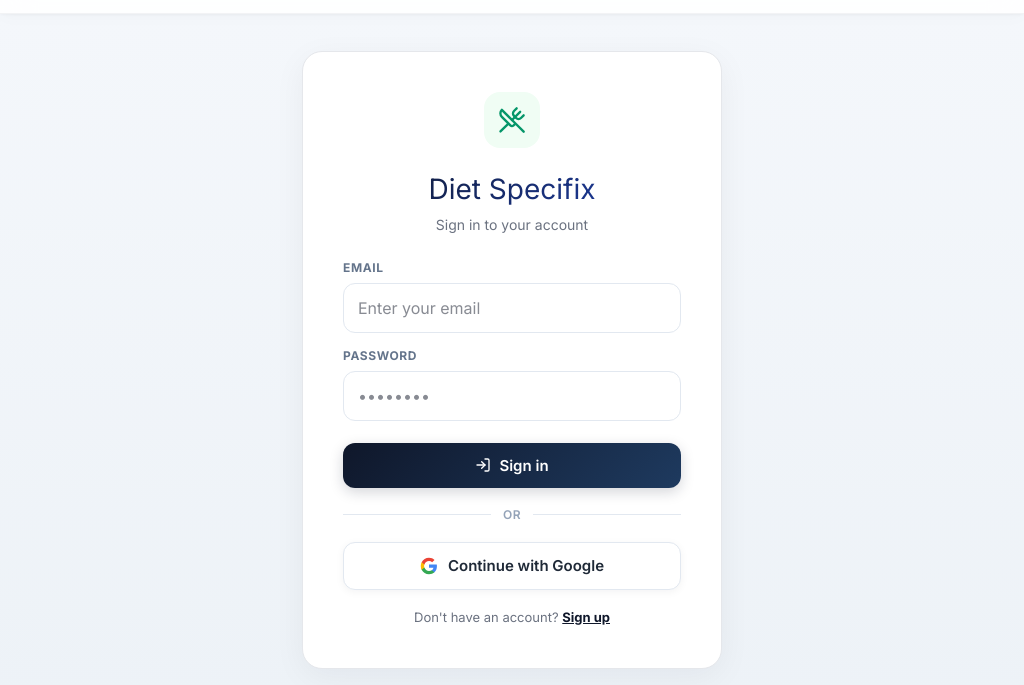
Test case: AuthPage › shows error message when sign up fails
This screenshot has width=1024, height=685.
Click the button "Sign up".
click(586, 617)  # box [562,608,610,626]
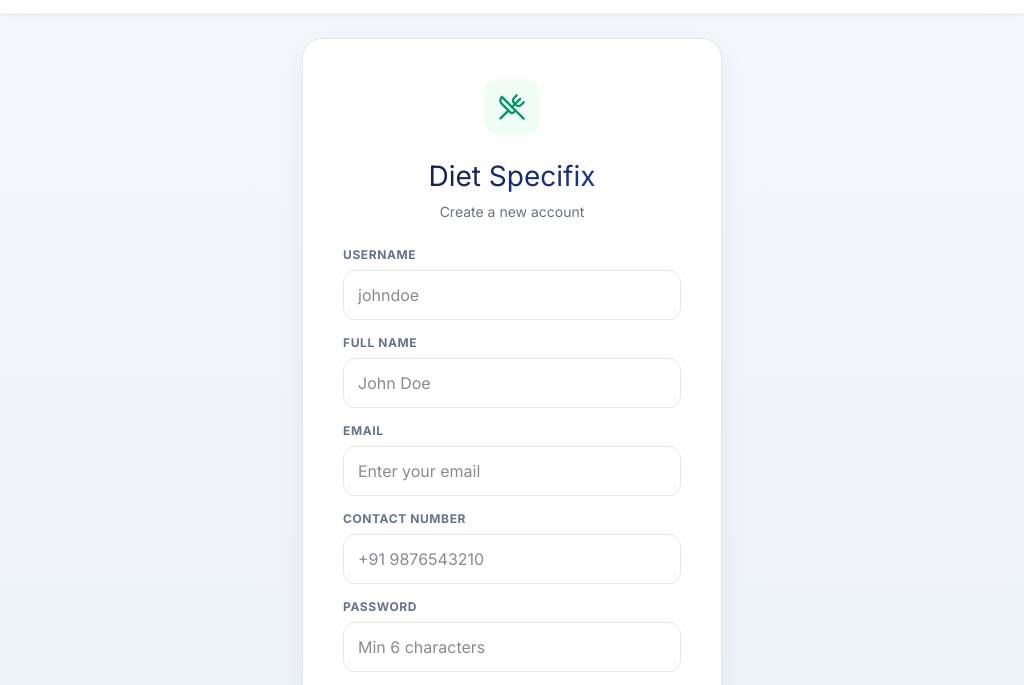
Type "existing" into the field labelled "Username".
click(512, 295); type("existing")  # box [343,270,681,320]
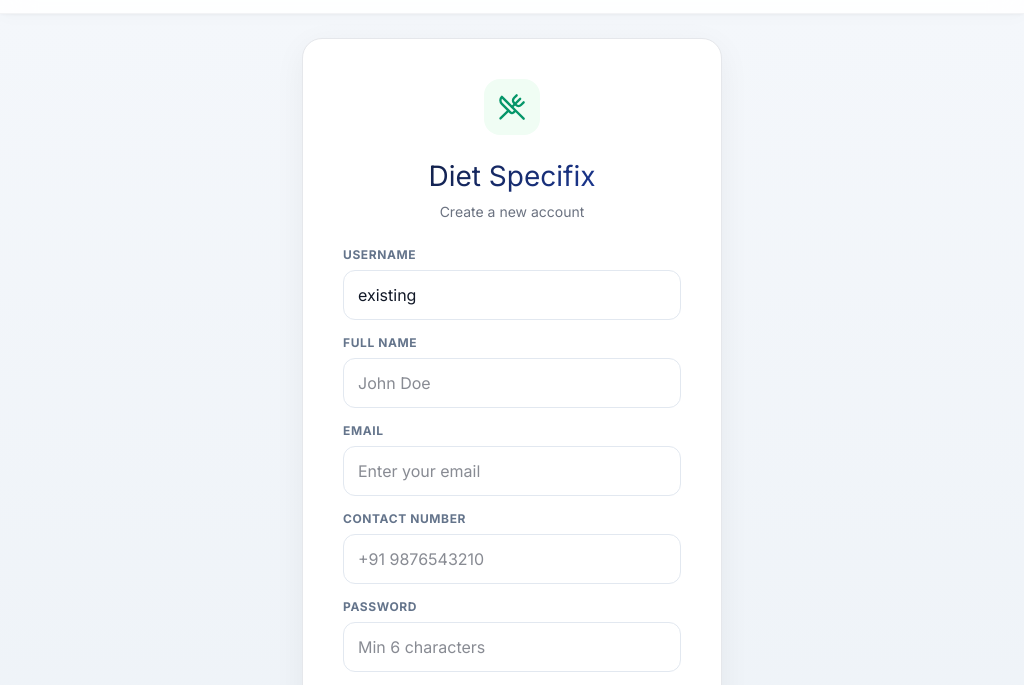
Type "taken@example.com" into the field labelled "Email".
click(512, 471); type("taken@example.com")  # box [343,446,681,496]
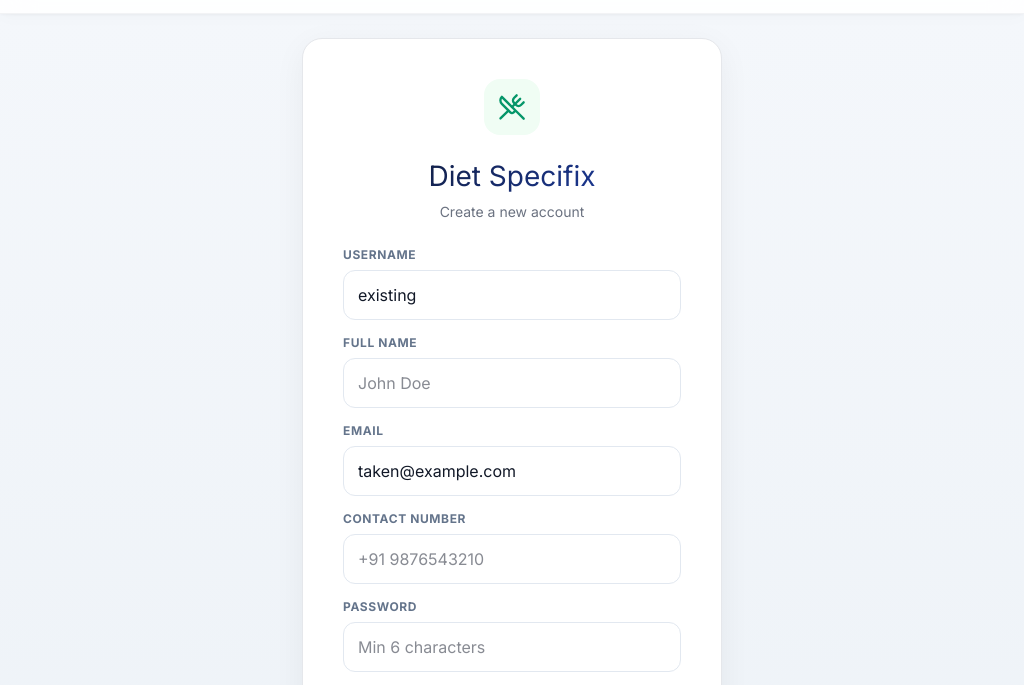
Type "pass123456" into the password field labelled "Password".
click(512, 647); type("pass123456")  # box [343,622,681,672]
(page scrolled)
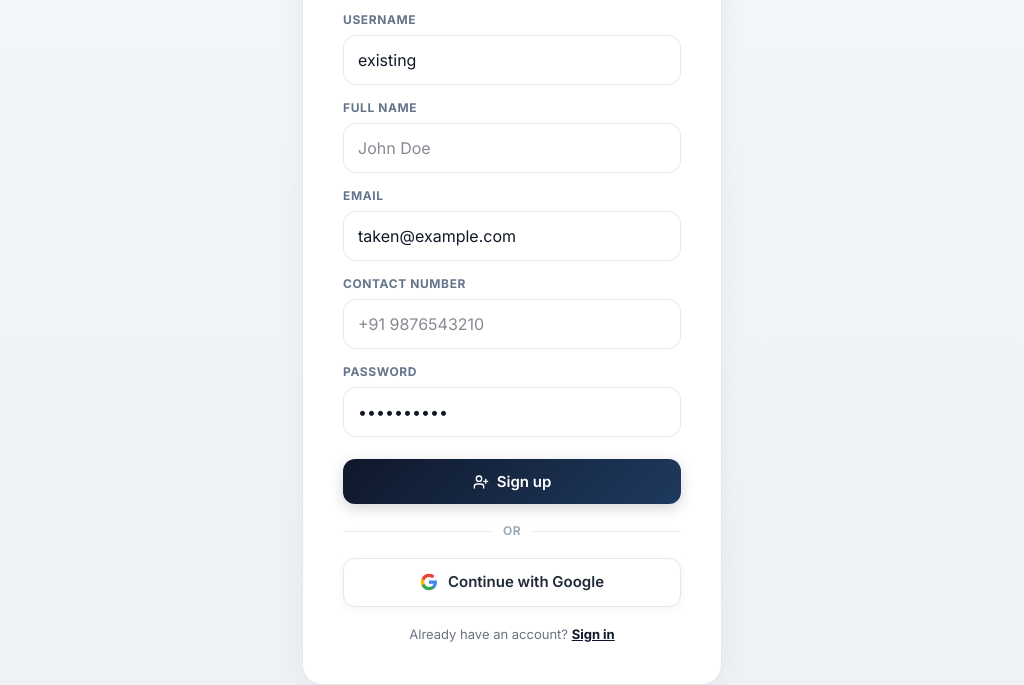
Click the button "Sign up".
click(512, 482)  # box [343,459,681,504]
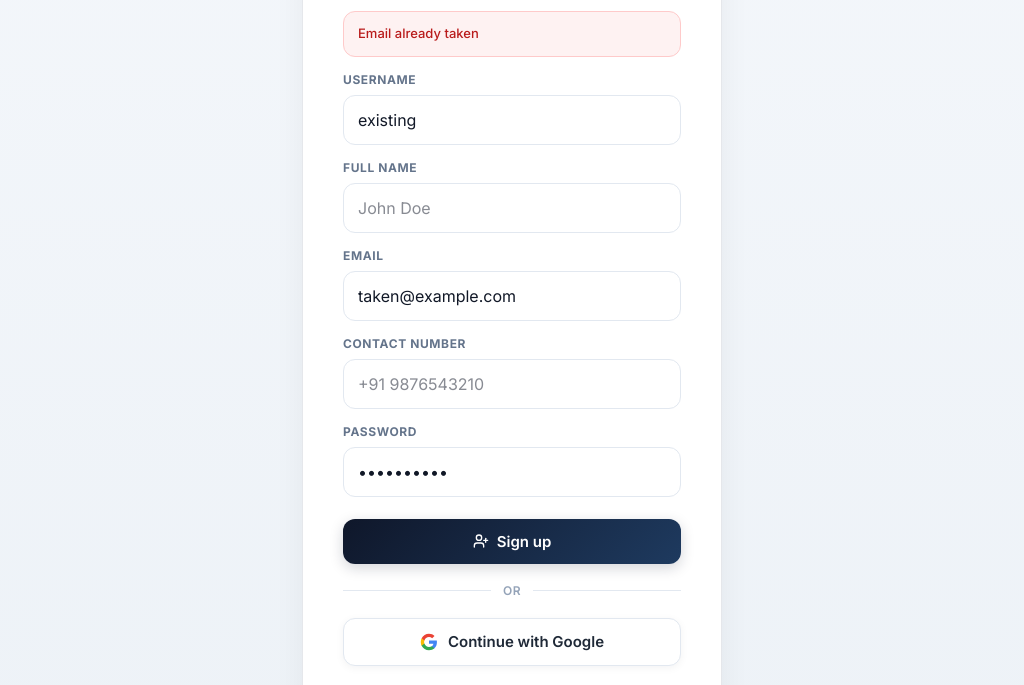
Expected: the text "Email already taken" is shown, [343,11,681,56]
